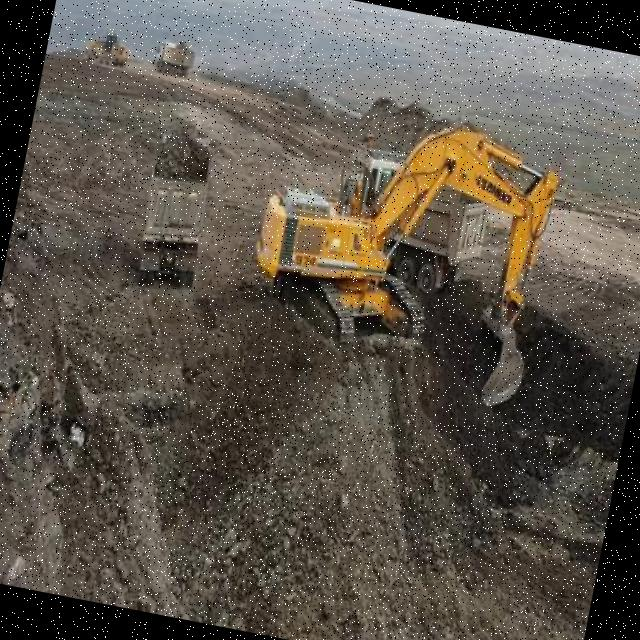Dump Truck: (134, 126, 222, 294), (385, 174, 493, 302), (153, 40, 196, 79)
Excavator: (230, 84, 570, 422)
